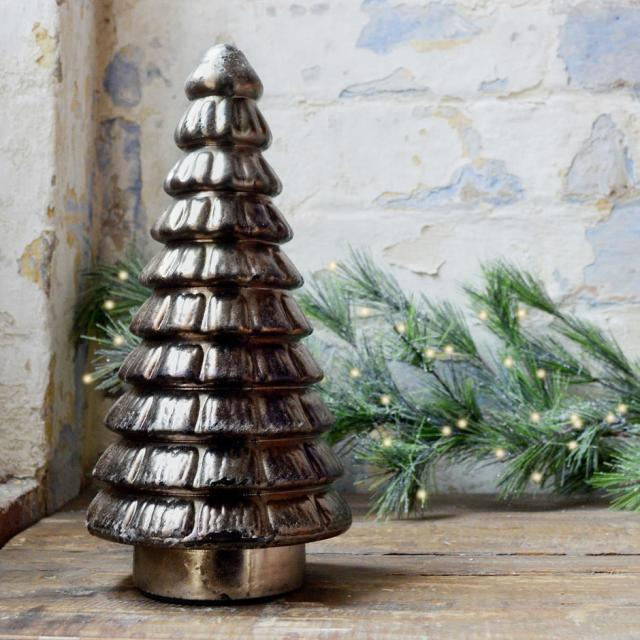Christmas-tree: (92, 39, 345, 611)
